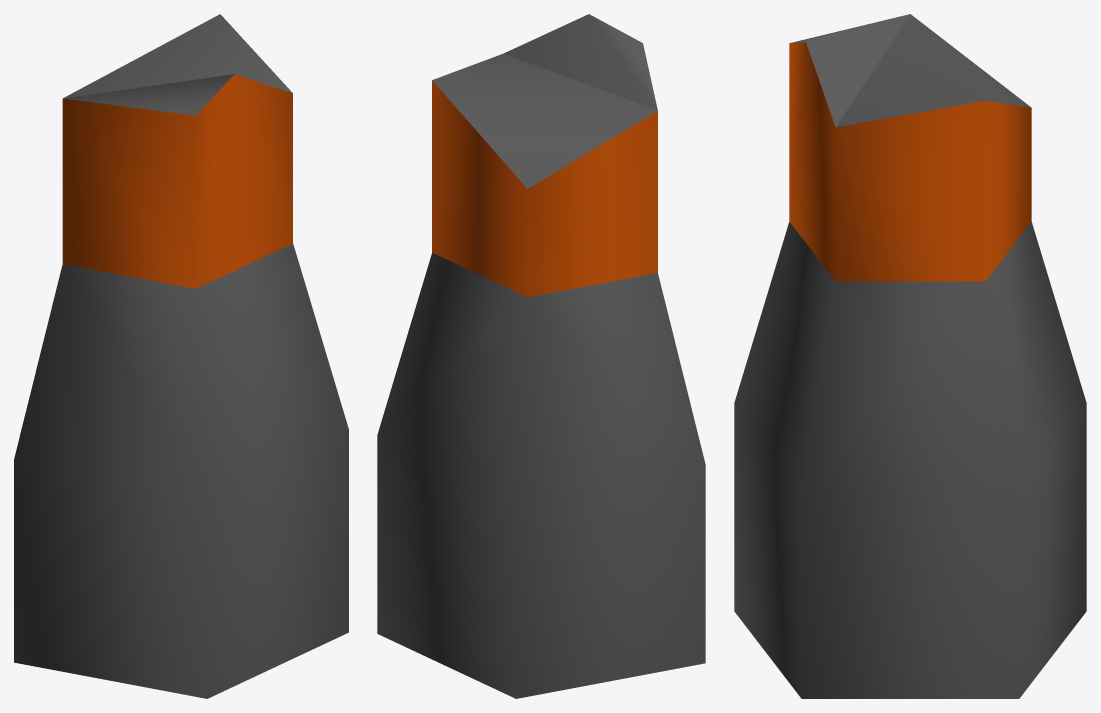
File: env_ruin_pillar_03_lod2.fbx
3 renders of one model, left to right at view 1: azimuth 30°, elevation 25°; view 2: azimuth 150°, elevation 25°; view 3: azimuth 270°, elevation 25°, orthographic. The views are drawn at different scales.
Visible parts, largest first — view 1: env_ruin_pillar_03_lod0.007; view 2: env_ruin_pillar_03_lod0.007; view 3: env_ruin_pillar_03_lod0.007.
Boxes of the visible parts, <box> form: env_ruin_pillar_03_lod0.007: <box>14,14,348,698</box>; env_ruin_pillar_03_lod0.007: <box>377,14,705,698</box>; env_ruin_pillar_03_lod0.007: <box>734,14,1086,698</box>.
Size of the model in its own units: 6.04 by 11.94 by 6.35.
